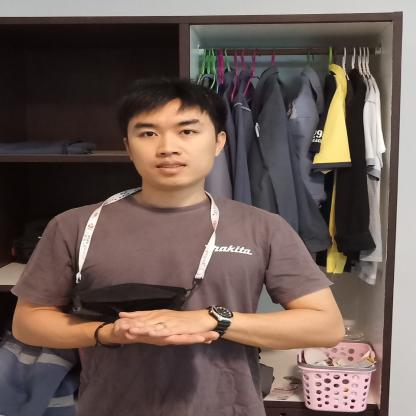Love: (72, 298, 269, 361)
